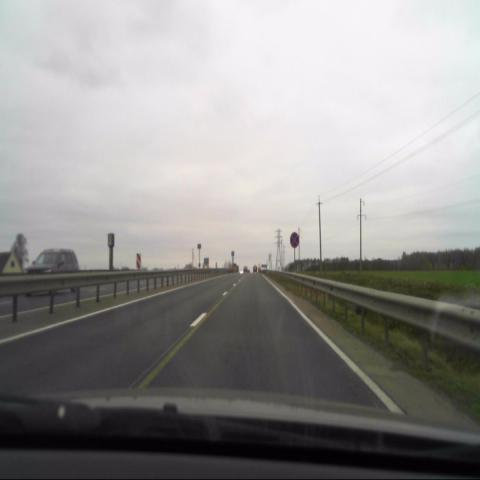3_27: (288, 232, 298, 249)
